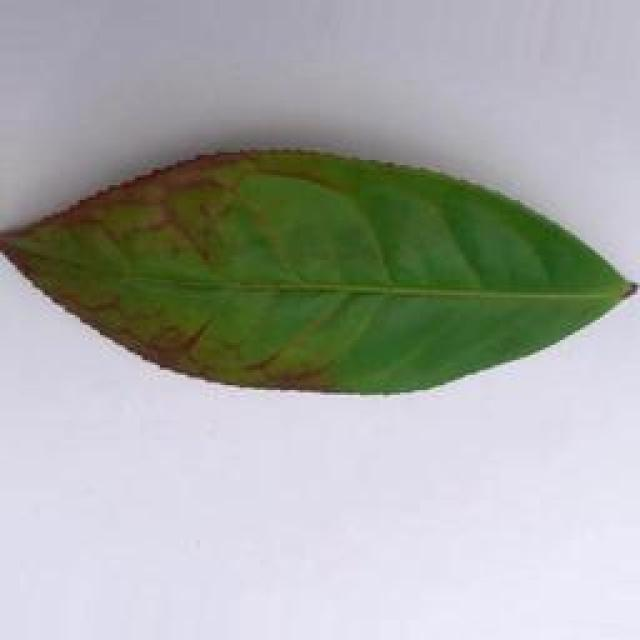Red Leaf Spot: (0, 151, 634, 395)
